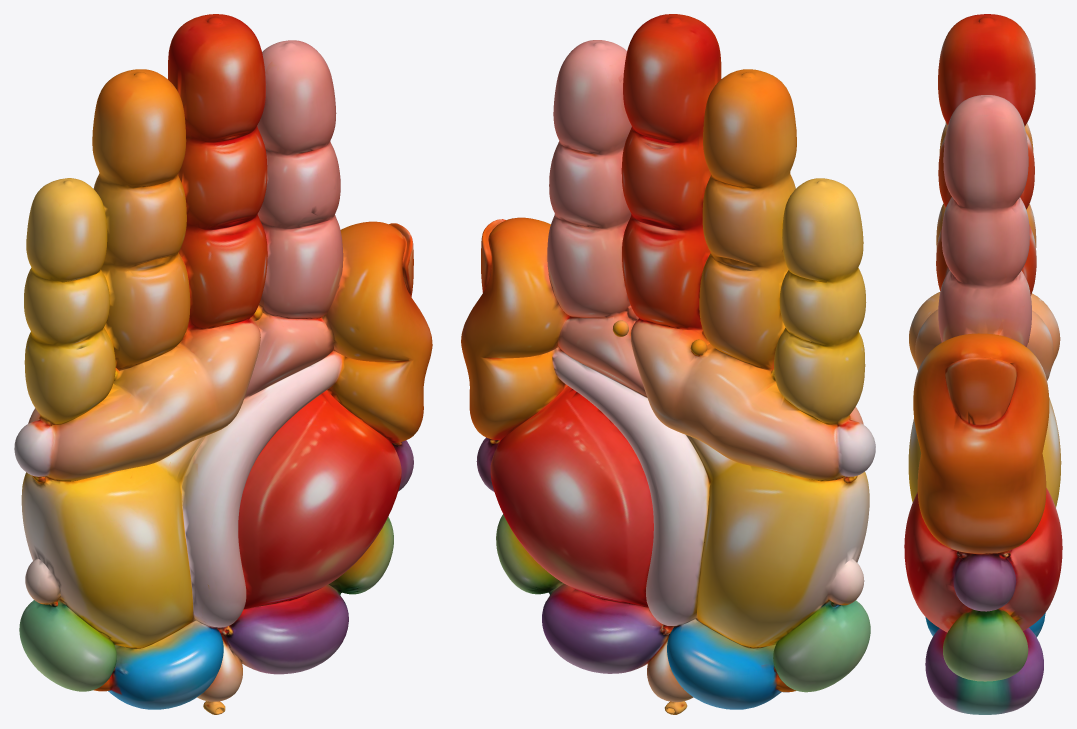
File: 如来神掌.glb
The picture shows the model from 3 angles, left to right: view 1: azimuth 30°, elevation 25°; view 2: azimuth 150°, elevation 25°; view 3: azimuth 270°, elevation 25°; orthographic projection.
Parts seen in each view (by area): view 1: node_0; view 2: node_0; view 3: node_0.
Part boxes in pixels (box(x1,y1,x2,y2)): node_0: box(14, 14, 432, 714); node_0: box(461, 14, 875, 714); node_0: box(904, 14, 1062, 714).
Bounding box in the file's own units: 0.7184 × 1.2 × 0.2496.
Materials: 1 (1 with a texture image).
